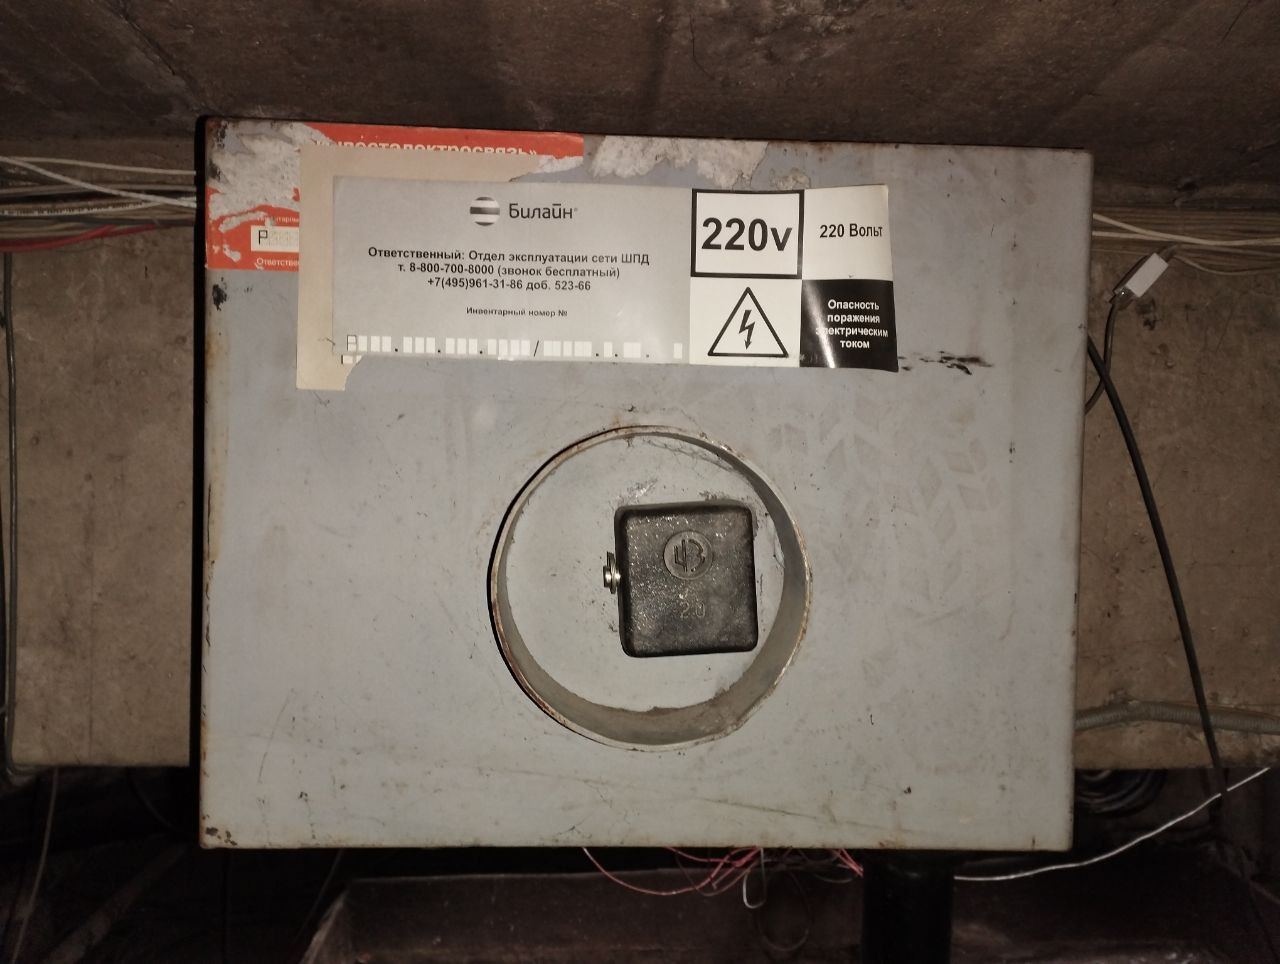shta-3: (190, 112, 1096, 859)
